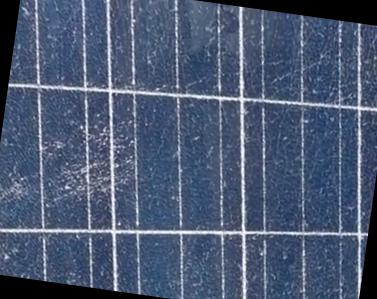Crack: (37, 97, 157, 231)
